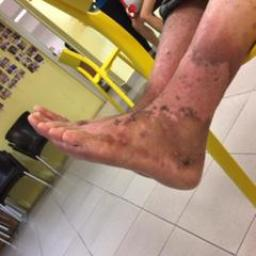Lateral View -Left Foot-: (18, 78, 226, 199)
